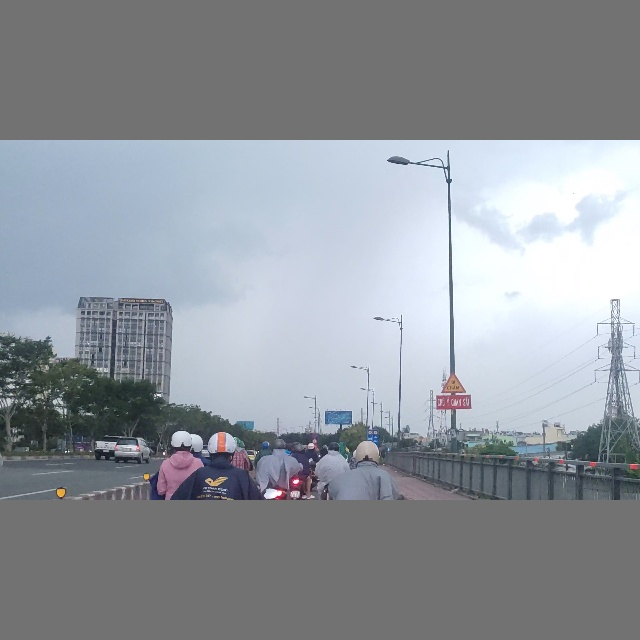W.245a: (440, 371, 467, 394)
